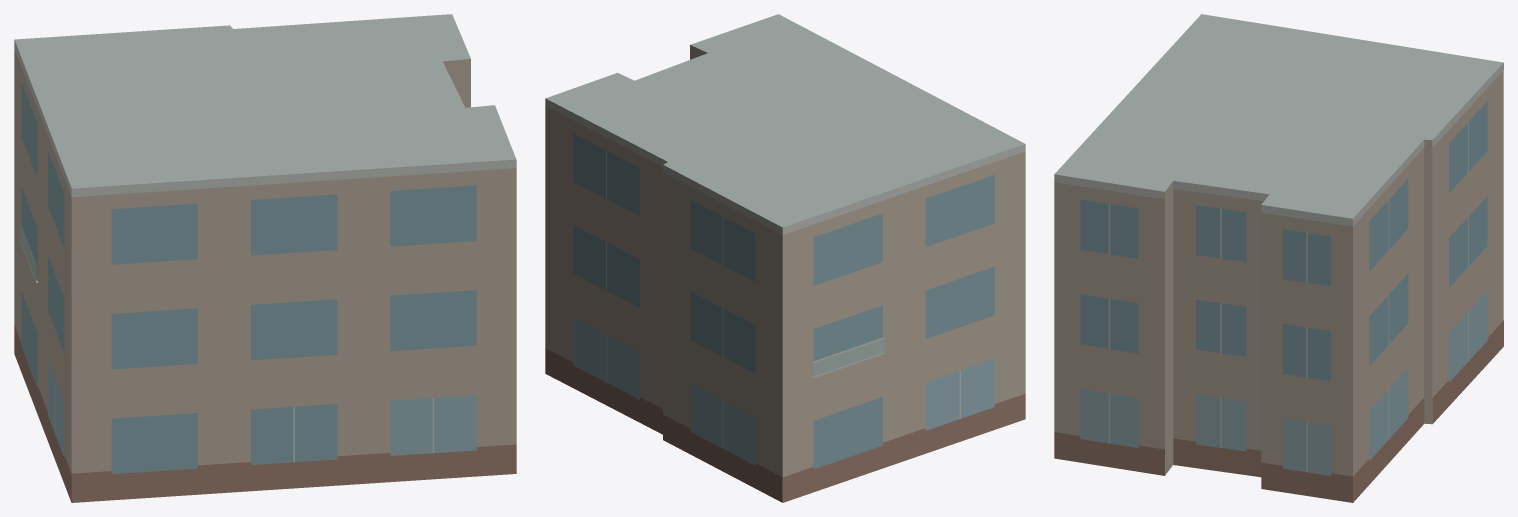
Rendered from survey-upis-32668387.glb.
The picture shows the model from 3 angles, left to right: view 1: azimuth 30°, elevation 25°; view 2: azimuth 150°, elevation 25°; view 3: azimuth 270°, elevation 25°; orthographic projection. The views are drawn at different scales.
Parts seen in each view (by area): view 1: survey-upis-32668387.tmp; view 2: survey-upis-32668387.tmp; view 3: survey-upis-32668387.tmp.
Part boxes in pixels (x1,y1,x2,y2): survey-upis-32668387.tmp: (14, 14, 516, 502); survey-upis-32668387.tmp: (545, 14, 1025, 502); survey-upis-32668387.tmp: (1054, 14, 1503, 502).
Size of the model in its own units: 13.8 by 8.92 by 12.8.
